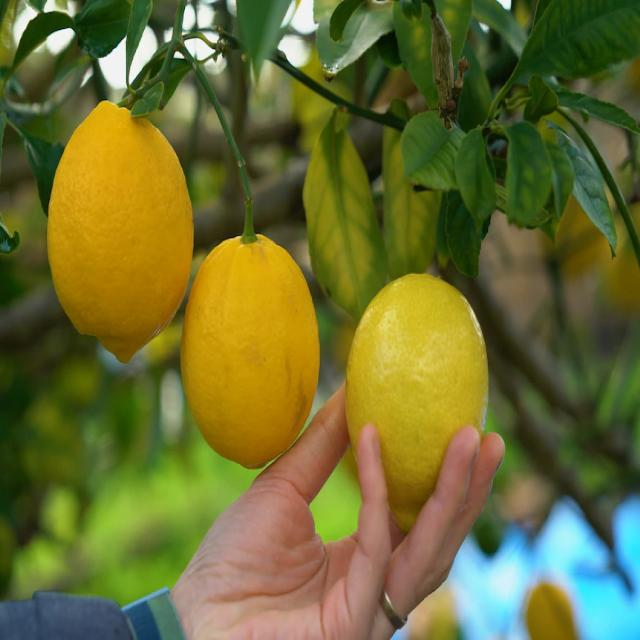lemon: (49, 101, 194, 362), (348, 274, 489, 532), (181, 235, 320, 469)
